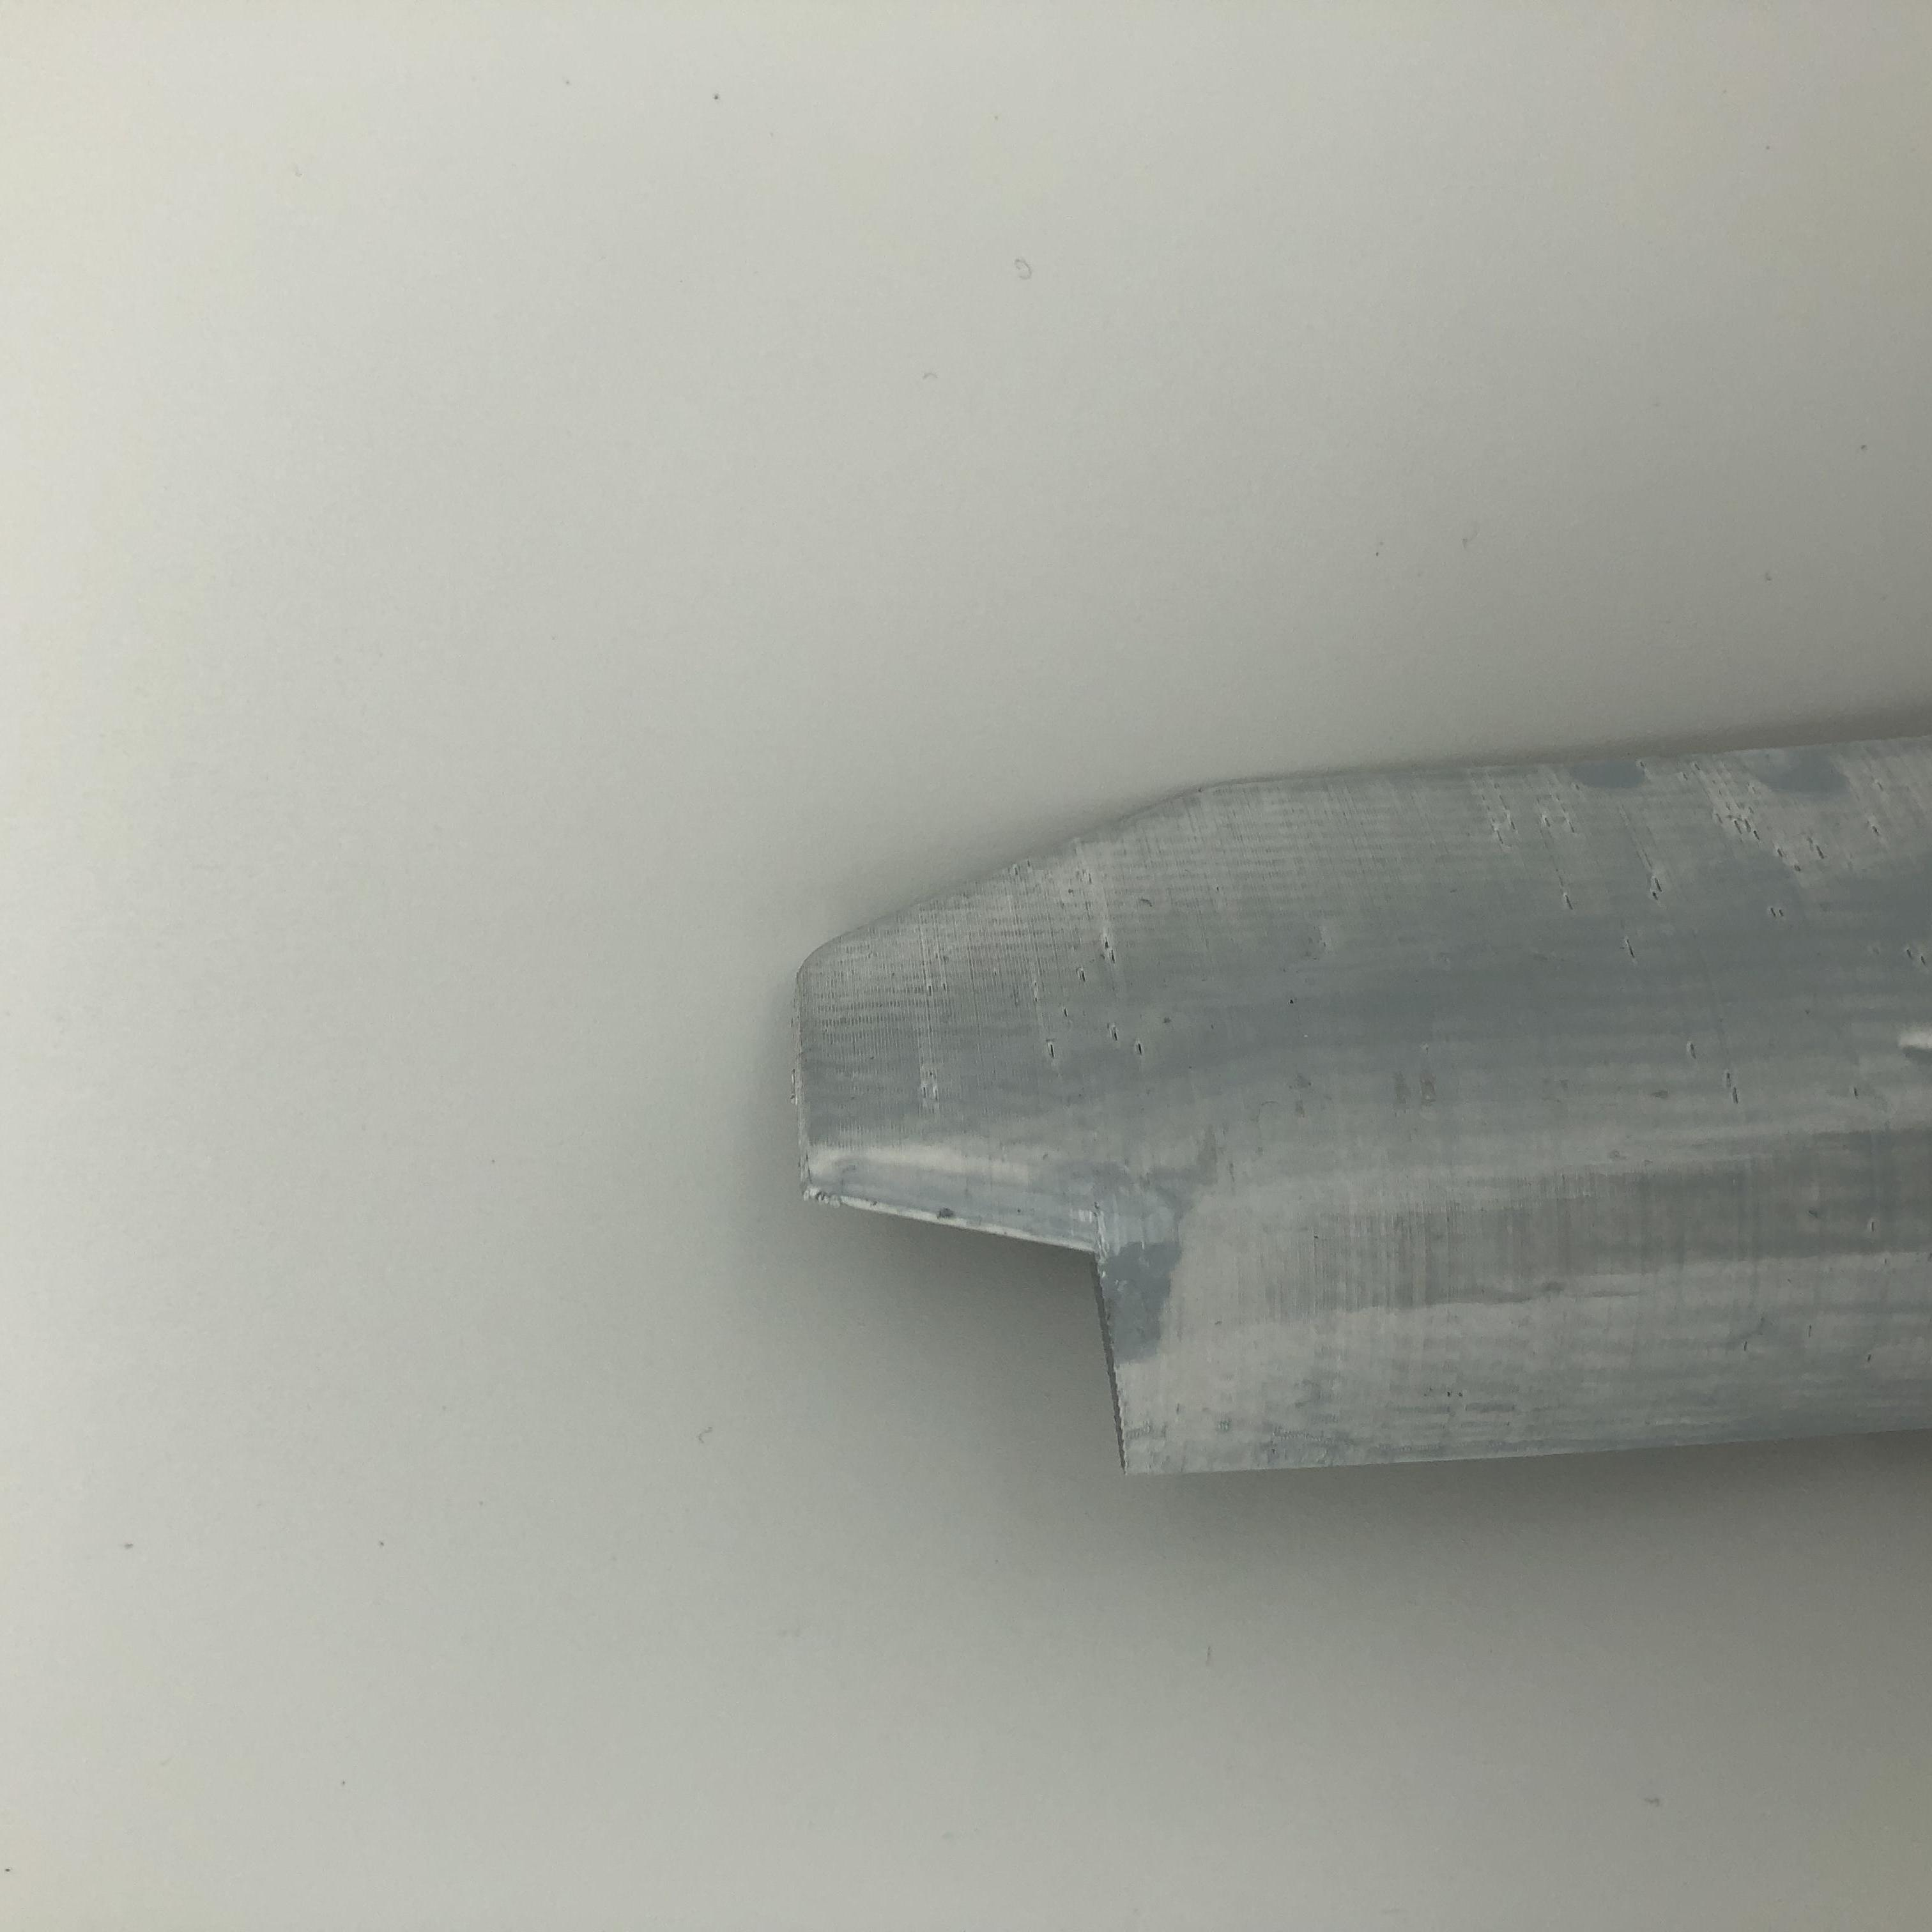fracture: (807, 1168, 1150, 1460)
